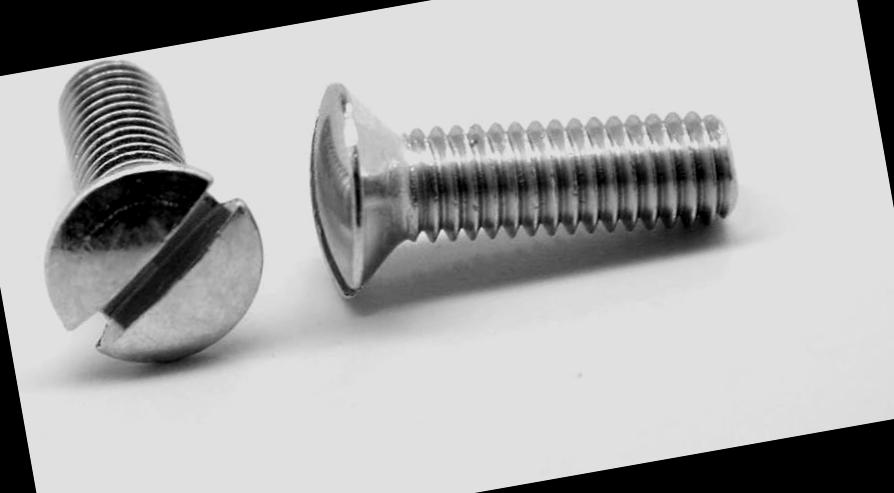screw: (33, 149, 278, 380)
